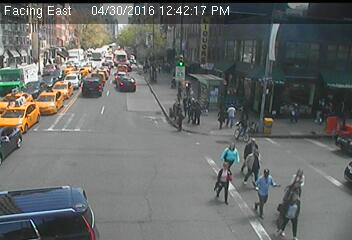neg: (242, 39, 281, 91), (24, 167, 62, 218), (136, 152, 174, 203), (86, 137, 118, 179), (69, 80, 100, 122), (294, 63, 324, 102), (39, 68, 63, 100), (316, 114, 339, 144), (172, 53, 193, 80), (116, 65, 133, 88)
pos: (249, 169, 284, 215), (279, 191, 312, 236), (213, 164, 239, 198), (247, 149, 267, 177), (193, 98, 213, 124), (223, 139, 243, 164), (293, 166, 308, 186), (248, 134, 261, 152), (226, 104, 239, 122), (214, 107, 227, 125), (288, 105, 301, 122)
